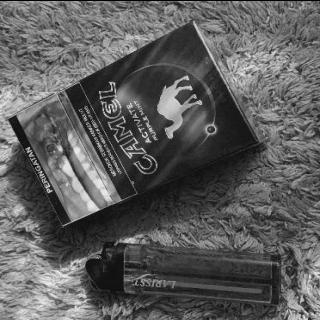objects: (8, 21, 266, 224)
